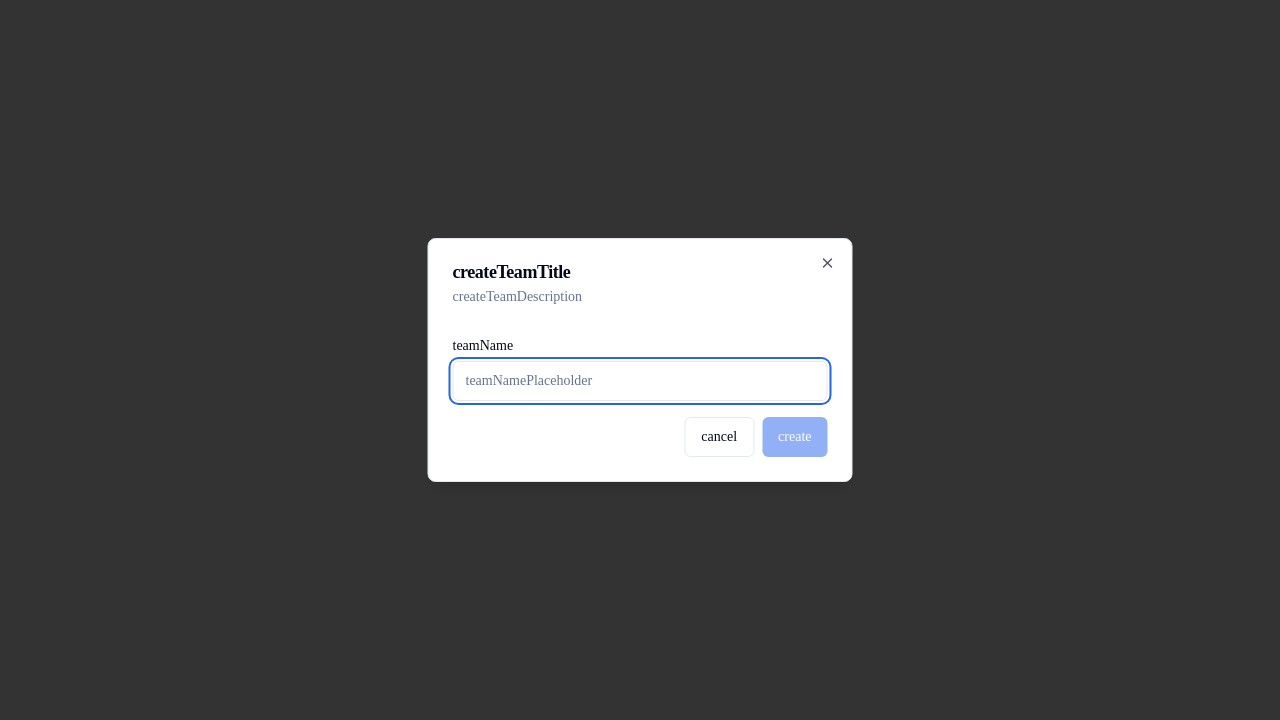
CreateTeamDialog › Form Submission › should show default error message when API returns no error
Type "My Team" into the field labelled "teamName" at (640, 381), box [452, 361, 828, 401]
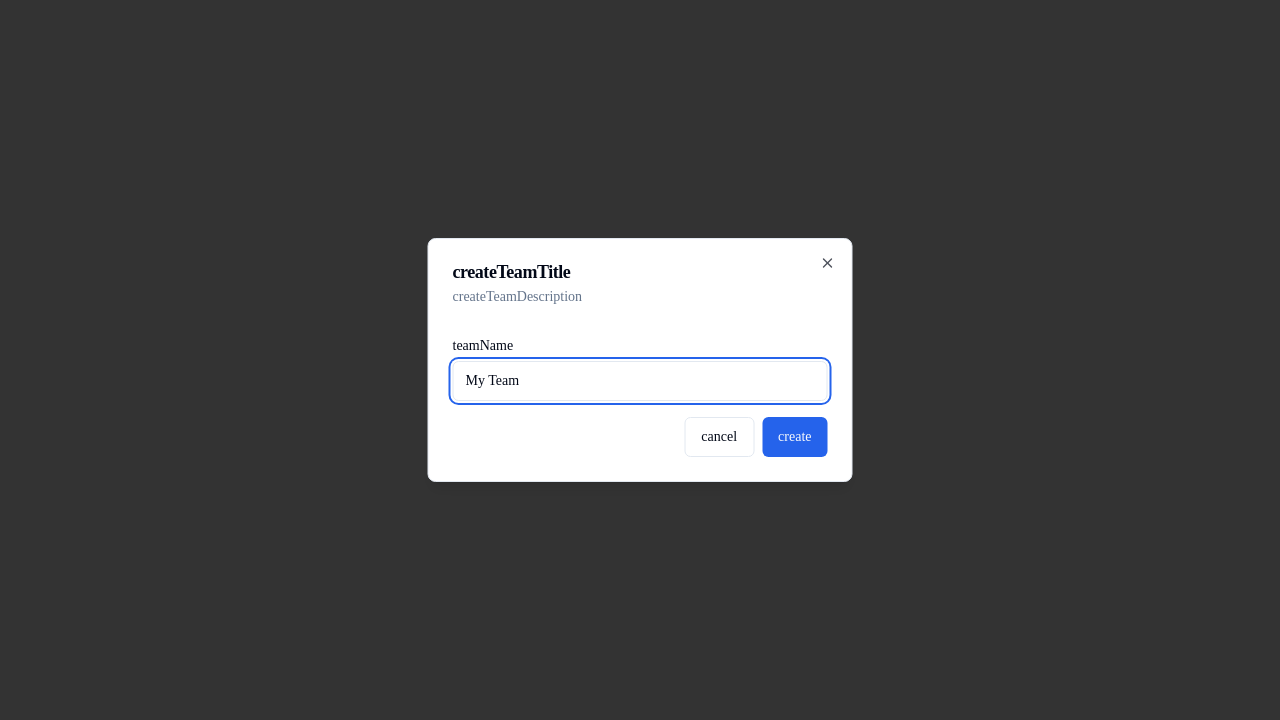
Click the button "create" at (795, 437), box [762, 417, 828, 457]
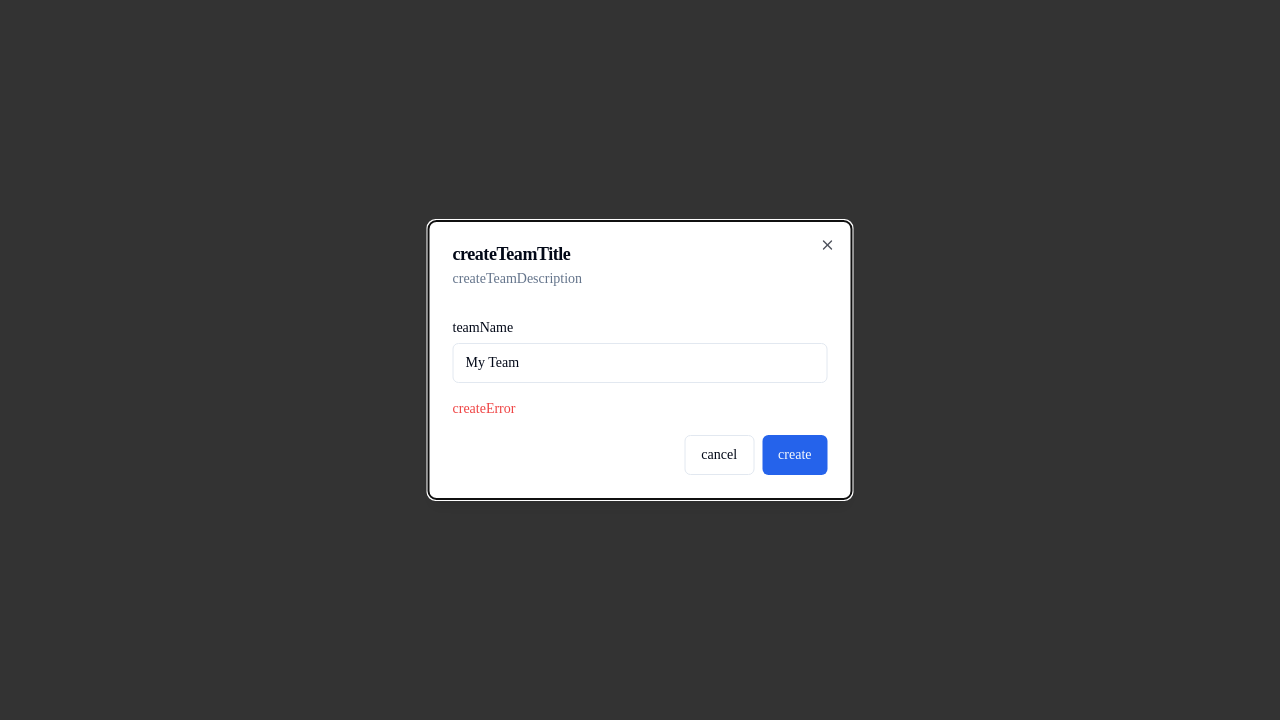
Expected: the text "createError" is shown, [452, 401, 516, 416]
